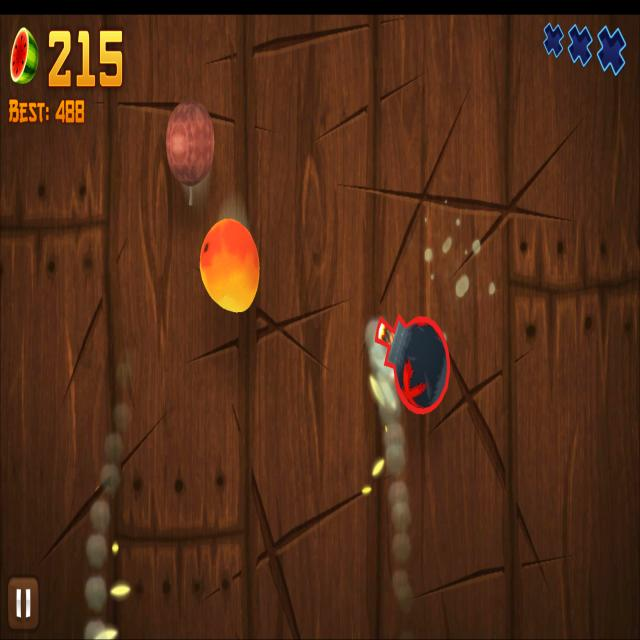bomb: (375, 312, 451, 415)
fruit: (200, 218, 260, 313), (165, 98, 215, 188)
